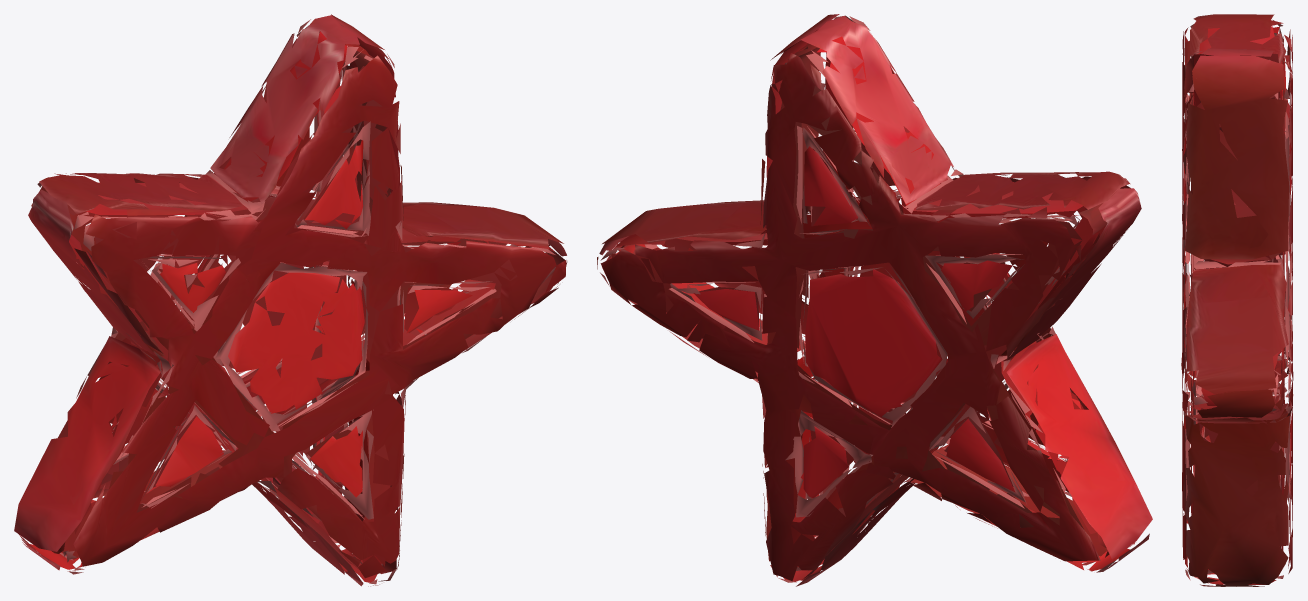
File: darkmark.glb
3 renders of one model, left to right at view 1: azimuth 30°, elevation 25°; view 2: azimuth 150°, elevation 25°; view 3: azimuth 270°, elevation 25°, orthographic. The views are drawn at different scales.
Bounding box in the file's own units: 0.0501 × 0.0504 × 0.00981.
Materials: 1 (1 with a texture image).
